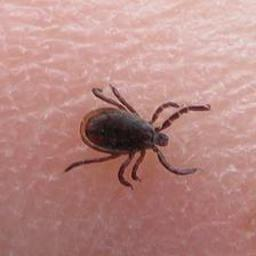Ixodes scapularis: (64, 85, 213, 190)
